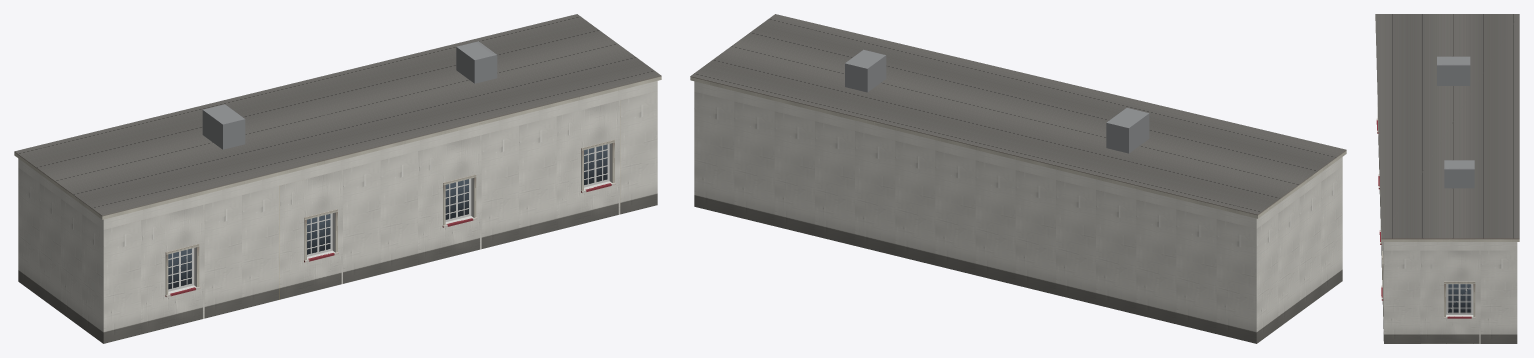
The model's file is SM_Molo_Edificio_C.fbx.
3 views of the same model, side by side, from view 1: azimuth 30°, elevation 25°; view 2: azimuth 150°, elevation 25°; view 3: azimuth 270°, elevation 25° (orthographic). The views are drawn at different scales.
Parts seen in each view (by area): view 1: SM_Molo_Edificio_C; view 2: SM_Molo_Edificio_C; view 3: SM_Molo_Edificio_C.
Boxes of the visible parts, bbox=[...] form: SM_Molo_Edificio_C: bbox=[14, 14, 661, 343]; SM_Molo_Edificio_C: bbox=[690, 14, 1346, 343]; SM_Molo_Edificio_C: bbox=[1375, 14, 1519, 343].
Size of what is drawn, in the model's own units: 1756 by 476 by 462.
Materials: 1 (1 with a texture image).
